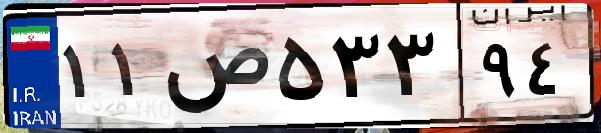1: (57, 26, 110, 100), (110, 28, 158, 98)
3: (385, 28, 445, 110), (330, 28, 385, 110)
4: (525, 38, 570, 115)
5: (270, 28, 330, 110)
9: (475, 38, 525, 113)
ص: (158, 20, 270, 120)
